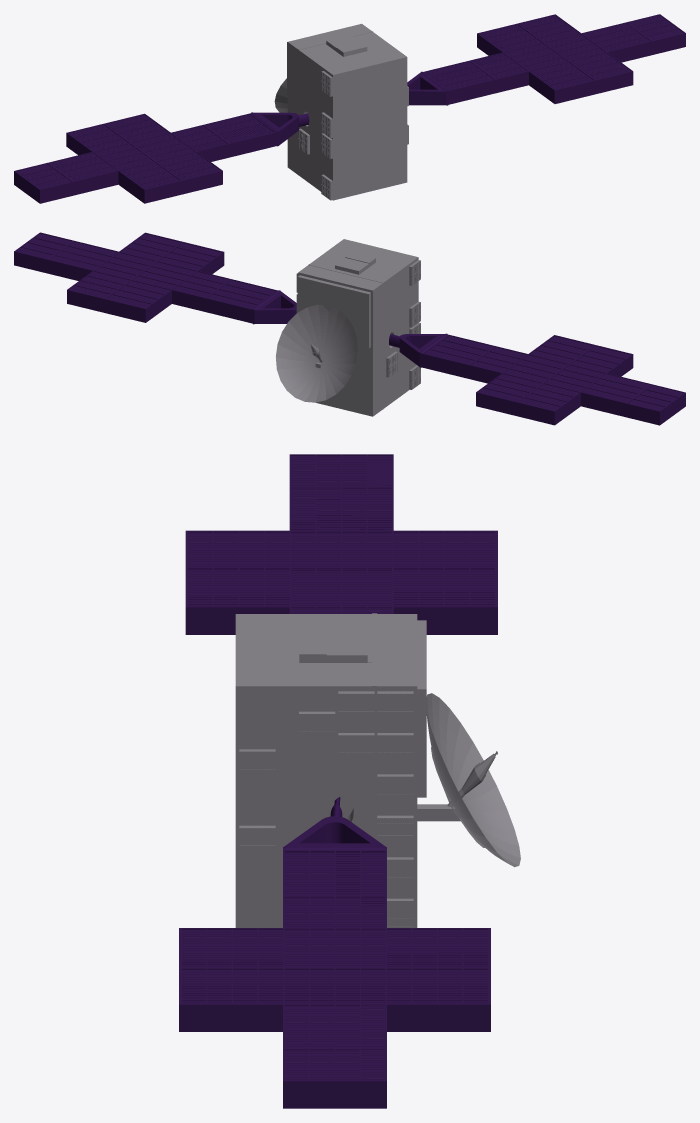
Rendered from coloredSatellite.glb.
3 renders of one model, top to bottom at view 1: azimuth 30°, elevation 25°; view 2: azimuth 150°, elevation 25°; view 3: azimuth 270°, elevation 25°, orthographic. The views are drawn at different scales.
Parts seen in each view (by area): view 1: PsycheRightSolarPanel; view 2: PsycheRightSolarPanel; view 3: PsycheRightSolarPanel.
Part boxes in pixels (box(x1,y1,x2,y2)): PsycheRightSolarPanel: box(14, 14, 685, 203); PsycheRightSolarPanel: box(14, 232, 685, 425); PsycheRightSolarPanel: box(179, 454, 520, 1108).
Size of the model in its own units: 133 by 26.51 by 30.54.
